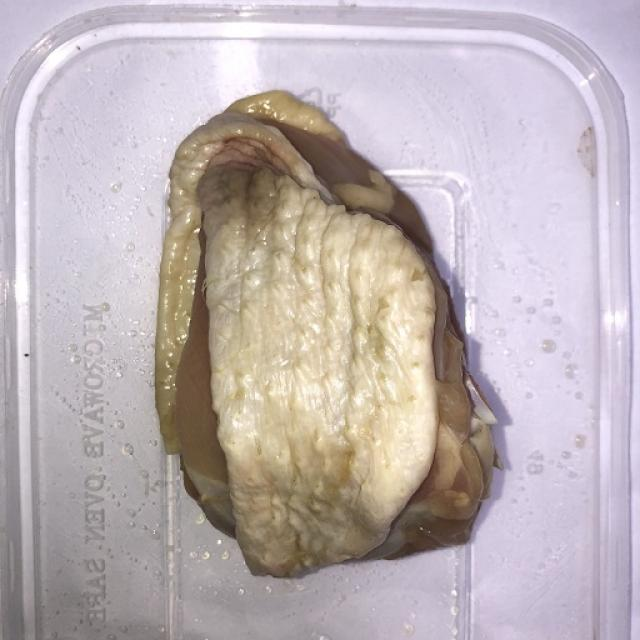chicken: (151, 83, 516, 582)
